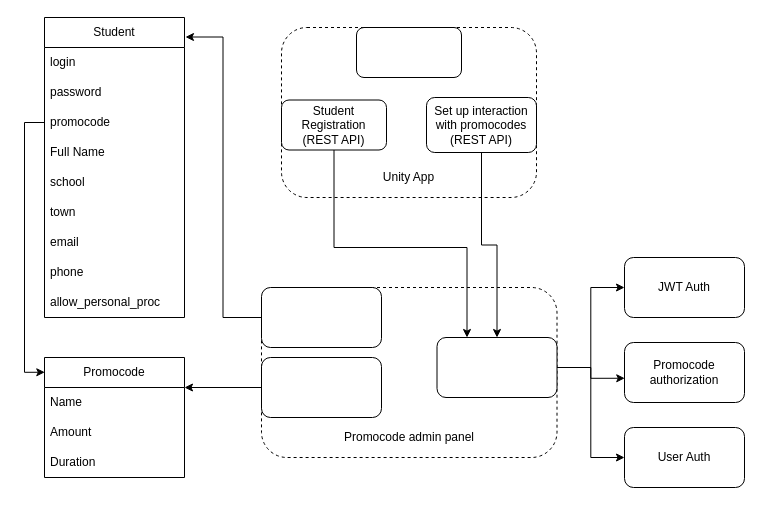
This 762x505 diagram has some shape labels left out. The centre of each missing label's shape, as x and y in pixels:
"REST API" goes at pixel 496 367.
"Update codebase for new version" goes at pixel 409 52.
"Web CRUD for promocodes" goes at pixel 321 387.
"Web CRUD for students" goes at pixel 321 317.
